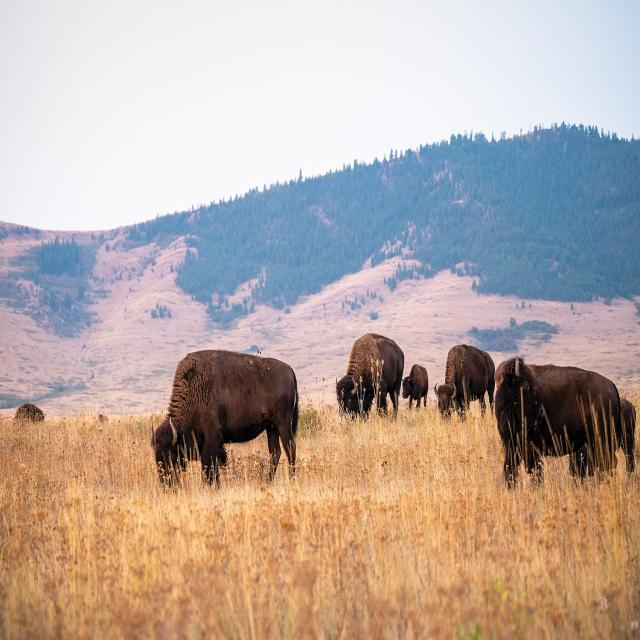bison: (151, 349, 298, 483), (494, 357, 634, 480), (336, 333, 404, 414), (434, 344, 495, 412), (402, 364, 428, 408), (547, 393, 556, 403)
